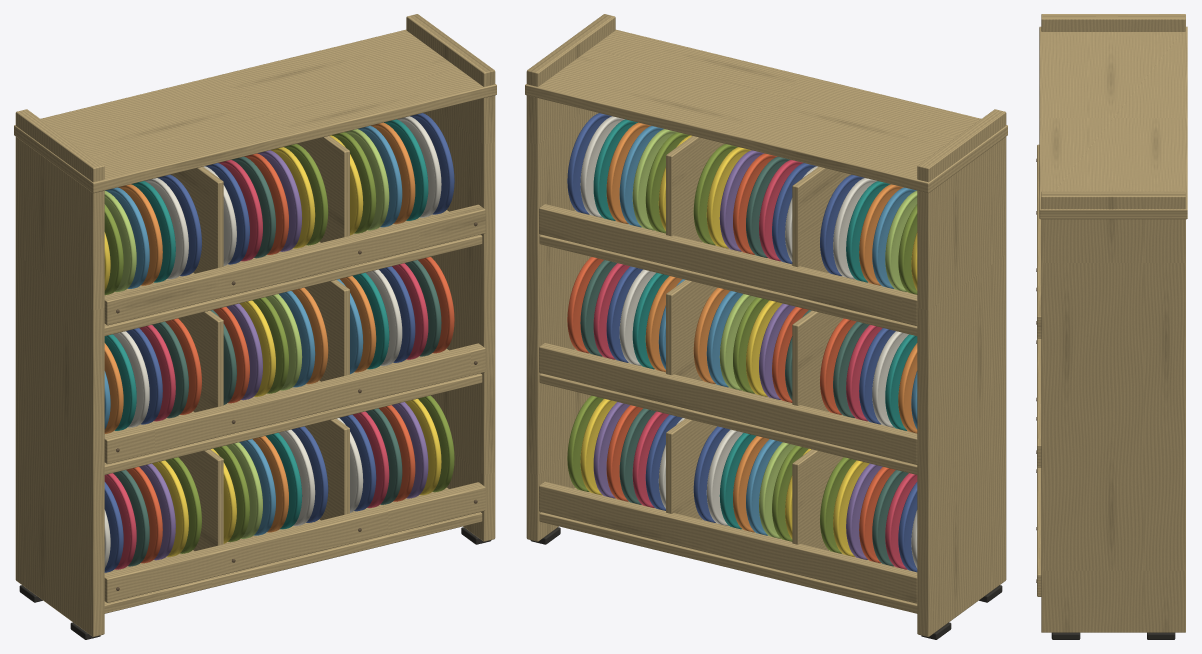
The model's file is wooden-disc-rack.glb.
3 views of the same model, side by side, from view 1: azimuth 30°, elevation 25°; view 2: azimuth 150°, elevation 25°; view 3: azimuth 270°, elevation 25° (orthographic). The views are drawn at different scales.
Parts seen in each view (by area): view 1: Left solid side, Top display ledge, Right solid side, Bottom front retaining rail, Middle front retaining rail, Top front retaining rail, Middle shelf slat 0.109, Bottom shelf slat 0.109, Top shelf slat 0.109, Top divider 1, Top divider 2, Bottom divider 1 (+72 smaller); view 2: Left solid side, Top display ledge, Right solid side, Bottom rear retaining rail, Middle rear retaining rail, Top rear retaining rail, Middle shelf slat -0.109, Bottom shelf slat -0.109, Top shelf slat -0.109, Top divider 1, Top divider 2, Bottom divider 1 (+66 smaller); view 3: Right solid side, Top display ledge, Left solid side, Top front retaining rail, Bottom front retaining rail, Middle front retaining rail, Protective foot.
Boxes of the visible parts, box(x1,y1,x2,y2) form: Left solid side: box(15, 109, 104, 636); Top display ledge: box(14, 29, 496, 193); Right solid side: box(406, 14, 495, 541); Bottom front retaining rail: box(104, 482, 485, 602); Middle front retaining rail: box(104, 343, 485, 464); Top front retaining rail: box(104, 204, 485, 325); Middle shelf slat 0.109: box(104, 373, 482, 474); Bottom shelf slat 0.109: box(104, 512, 482, 613); Top shelf slat 0.109: box(104, 234, 482, 335); Top divider 1: box(171, 166, 223, 273); Top divider 2: box(297, 136, 349, 242); Bottom divider 1: box(178, 449, 223, 551); Left solid side: box(917, 109, 1006, 636); Top display ledge: box(525, 29, 1007, 193); Right solid side: box(526, 14, 615, 541); Bottom rear retaining rail: box(539, 481, 917, 603); Middle rear retaining rail: box(539, 343, 917, 464); Top rear retaining rail: box(539, 204, 917, 325); Middle shelf slat -0.109: box(539, 373, 917, 474); Bottom shelf slat -0.109: box(539, 512, 917, 613); Top shelf slat -0.109: box(539, 234, 917, 335); Top divider 1: box(792, 166, 850, 272); Top divider 2: box(666, 136, 724, 242); Bottom divider 1: box(792, 449, 843, 550); Right solid side: box(1041, 191, 1185, 632); Top display ledge: box(1039, 26, 1187, 219); Left solid side: box(1041, 14, 1185, 31); Top front retaining rail: box(1037, 144, 1041, 338); Bottom front retaining rail: box(1037, 467, 1041, 596); Middle front retaining rail: box(1037, 338, 1041, 467); Protective foot: box(1051, 632, 1080, 639).
Bounding box in the file's own units: 0.966 × 1.08 × 0.335.
15 materials, 1 textured.
